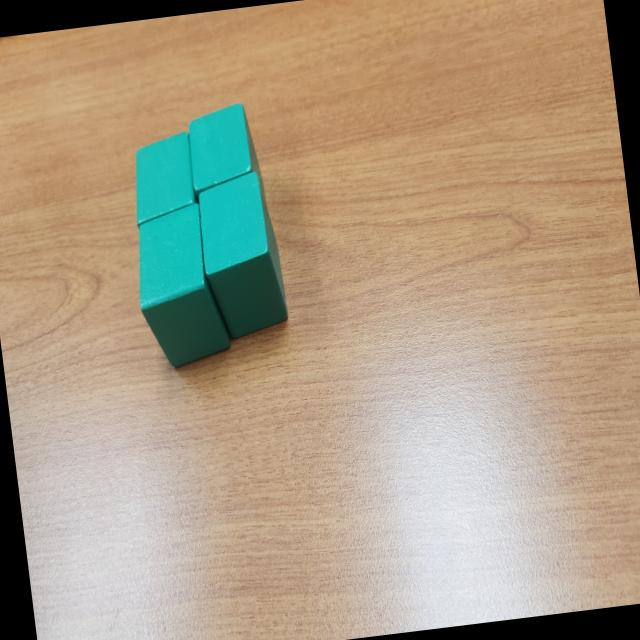green: (128, 200, 232, 372), (193, 168, 291, 344), (182, 100, 266, 218), (126, 130, 202, 230)
